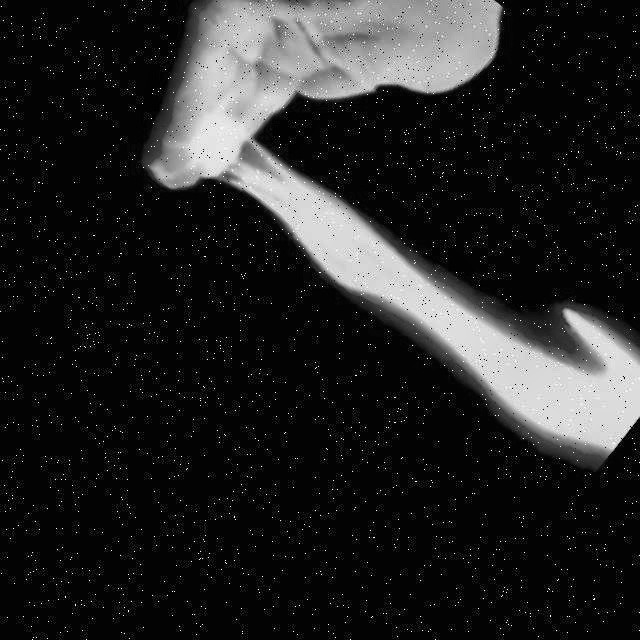Fire: (156, 31, 640, 533)
